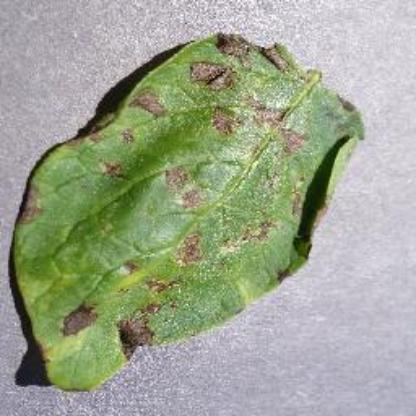Early-Blight: (13, 29, 369, 399)
